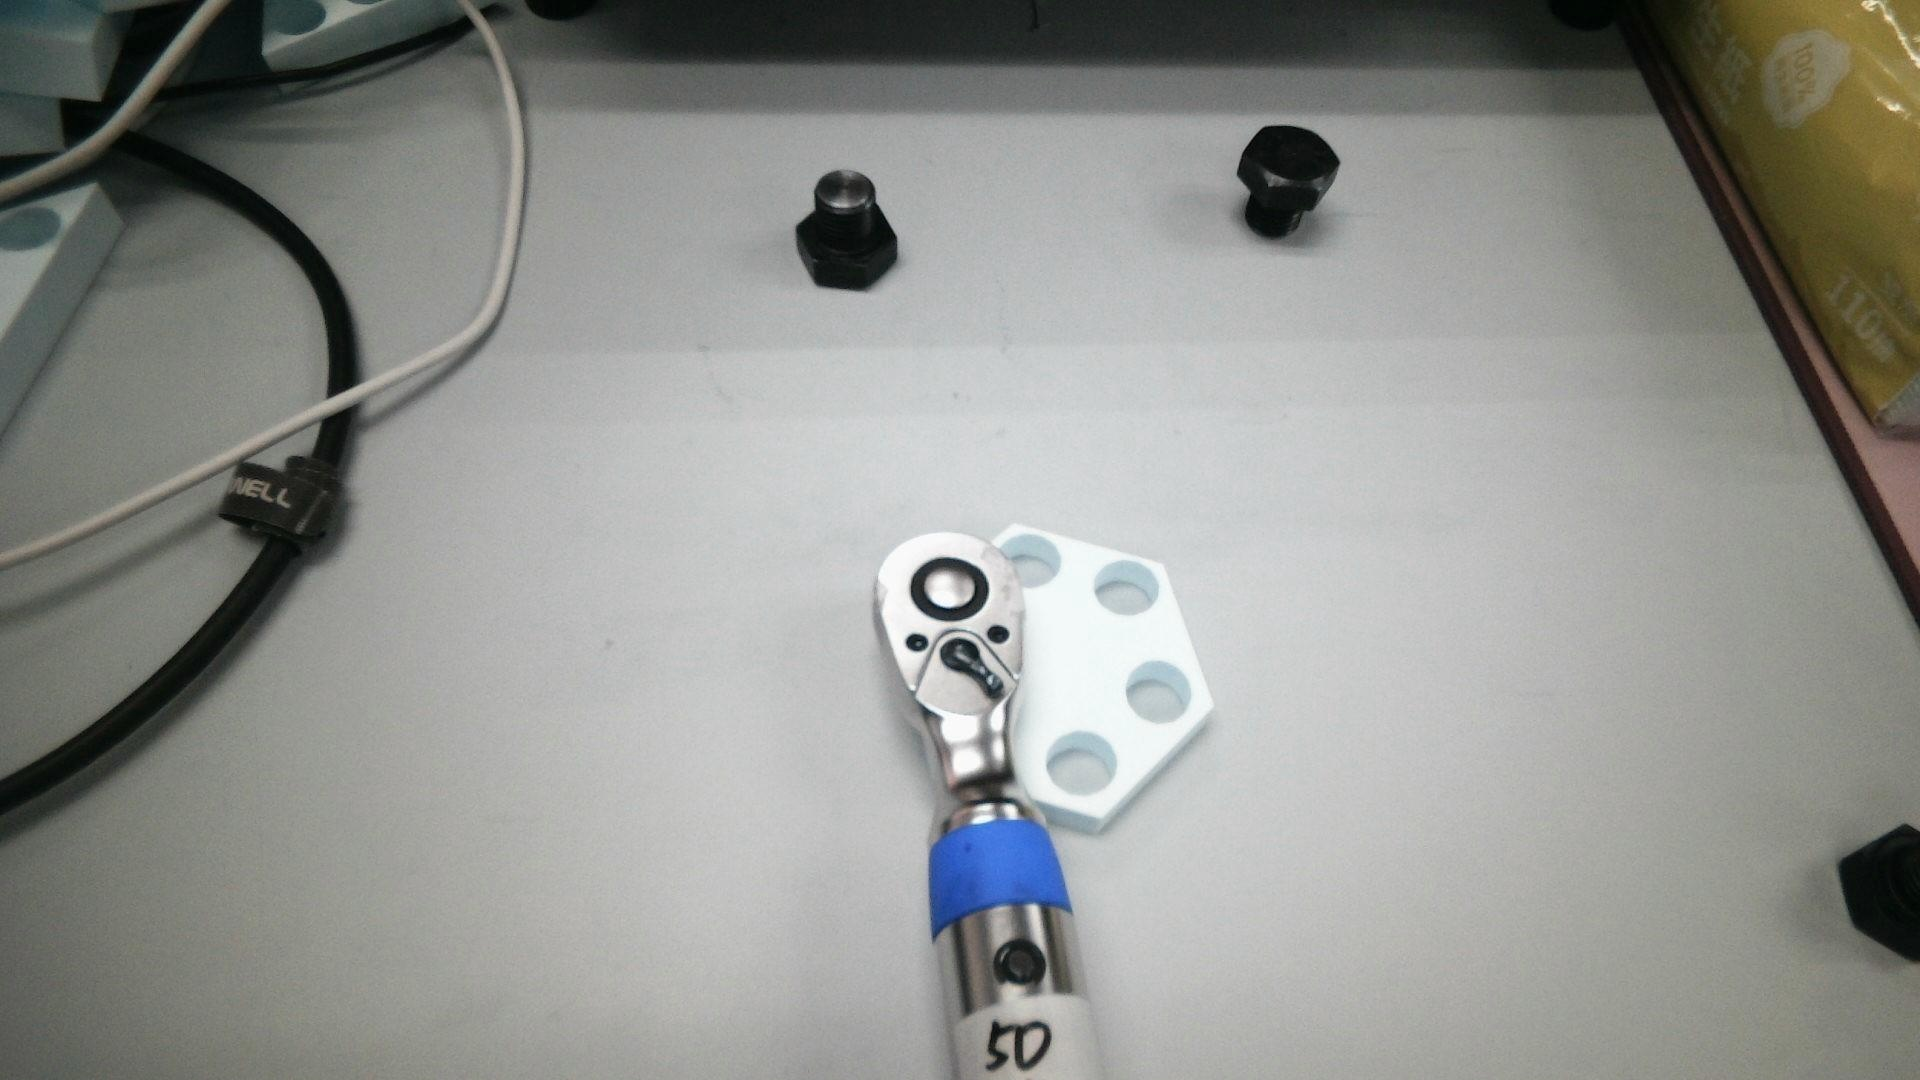hole: (1046, 731, 1118, 796), (1125, 659, 1192, 724), (1093, 560, 1159, 615), (1000, 535, 1063, 589)
obj: (990, 522, 1215, 833)
wrench: (911, 556, 990, 622)
